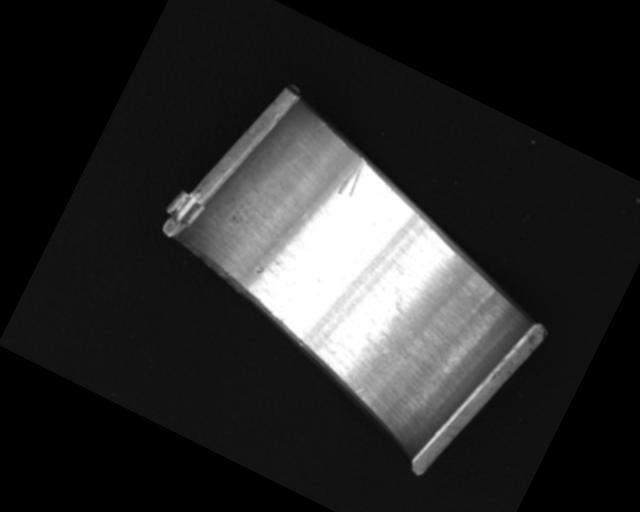bruise: (252, 263, 266, 276)
nick: (335, 153, 371, 200), (313, 118, 326, 133)
